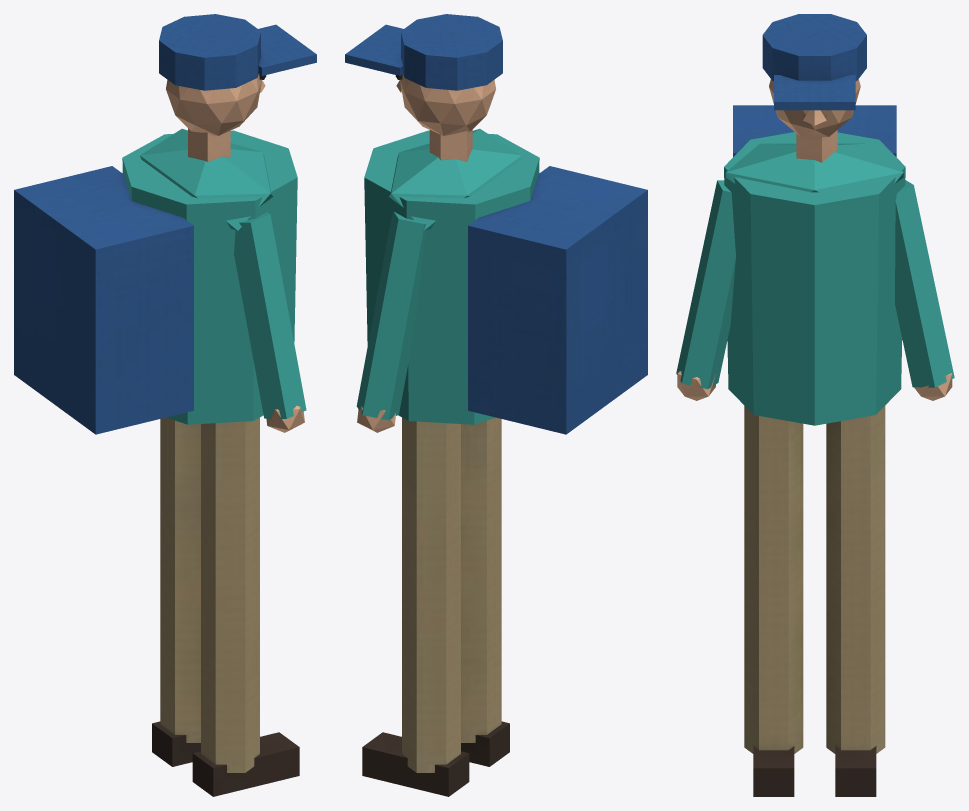
Rendered from turist_2_tex.glb.
3 views of the same model, side by side, from view 1: azimuth 30°, elevation 25°; view 2: azimuth 150°, elevation 25°; view 3: azimuth 270°, elevation 25° (orthographic).
Visible parts, largest first — view 1: turist_2; view 2: turist_2; view 3: turist_2.
Part boxes in pixels (box(x1,y1,x2,y2)): turist_2: box(14, 14, 316, 796); turist_2: box(345, 14, 647, 796); turist_2: box(676, 14, 954, 796).
Size of the model in its own units: 0.615 by 1.78 by 0.6128.
Materials: 7 (5 with a texture image).
